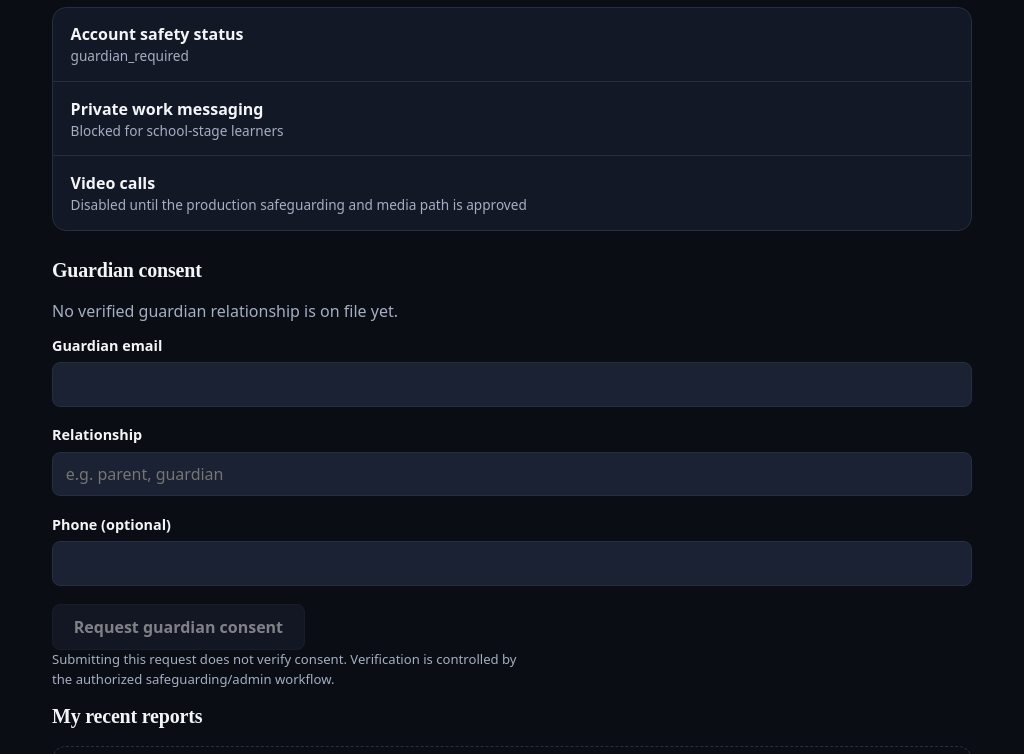
Scenario: SafetyCenter › keeps guardian verification server-controlled
This screenshot has width=1024, height=754.
(page scrolled)
Check: the heading "Guardian consent" is shown, box [52,254,202,284]
Type "guardian@example.com" into the field labelled "Guardian email" at (512, 384), box [52,362,972,407]
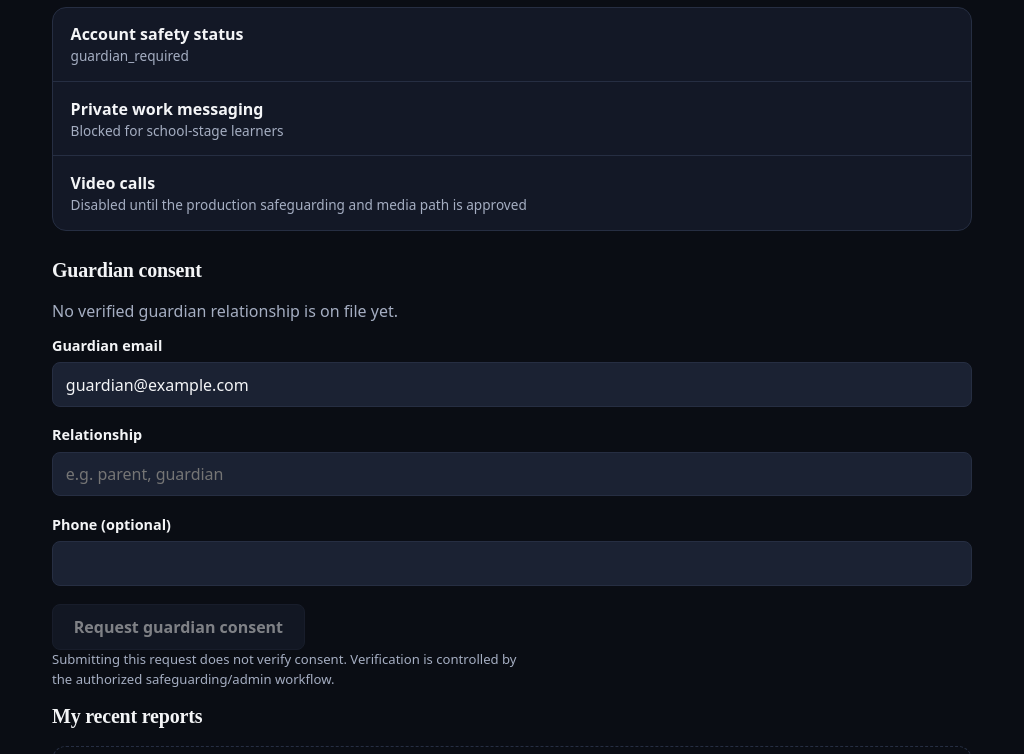
Type "Parent" into the field labelled "Relationship" at (512, 474), box [52,452,972,496]
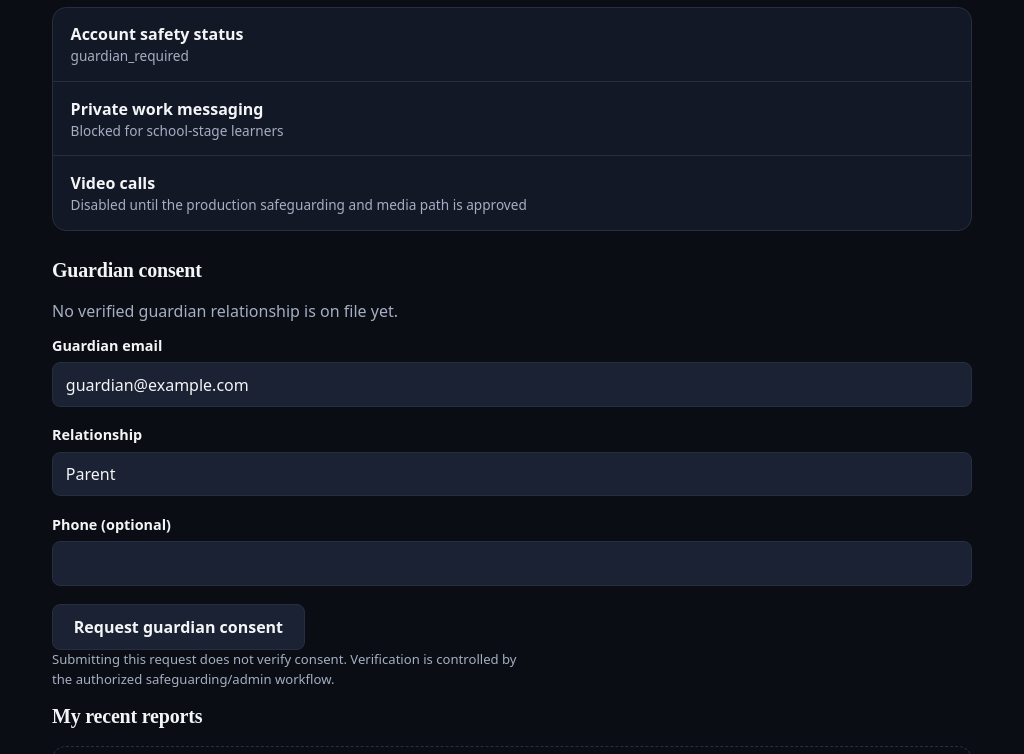
Click the button "Request guardian consent" at (178, 627), box [52,604,305,650]
(page scrolled)
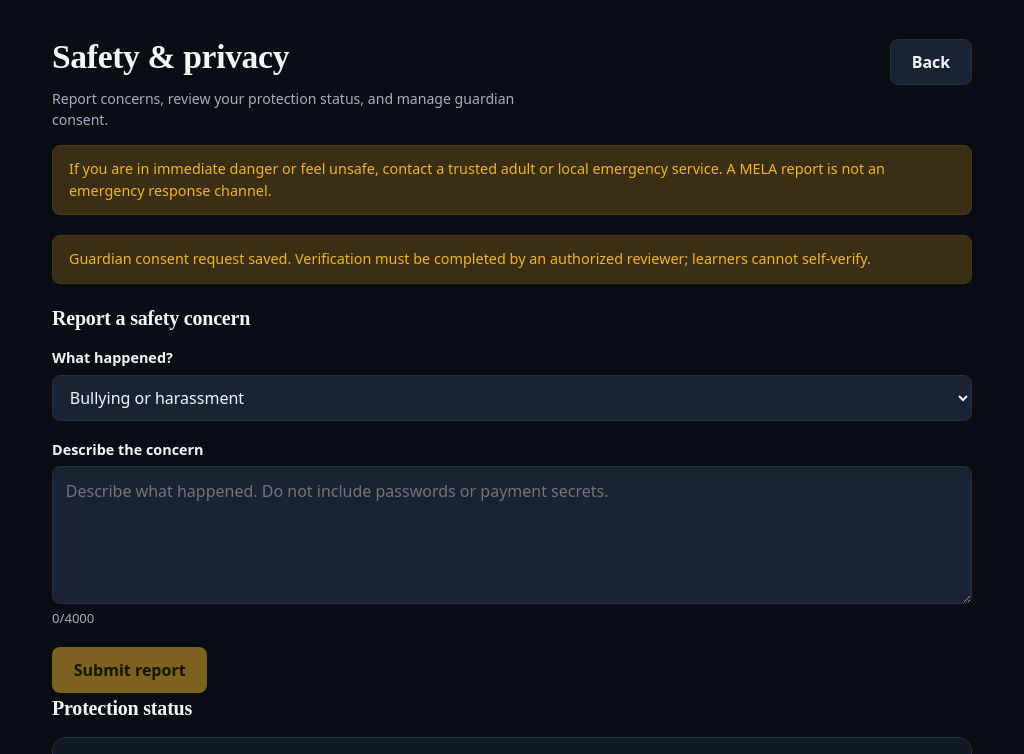
Check: the text "learners cannot self-verify" is shown, box [69,249,871,268]
